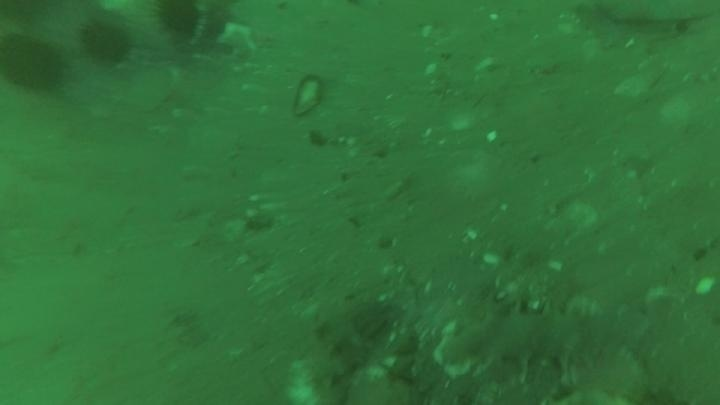echinus: (0, 31, 68, 95), (79, 18, 134, 66), (153, 1, 203, 40)
holothurian: (436, 300, 636, 377)
